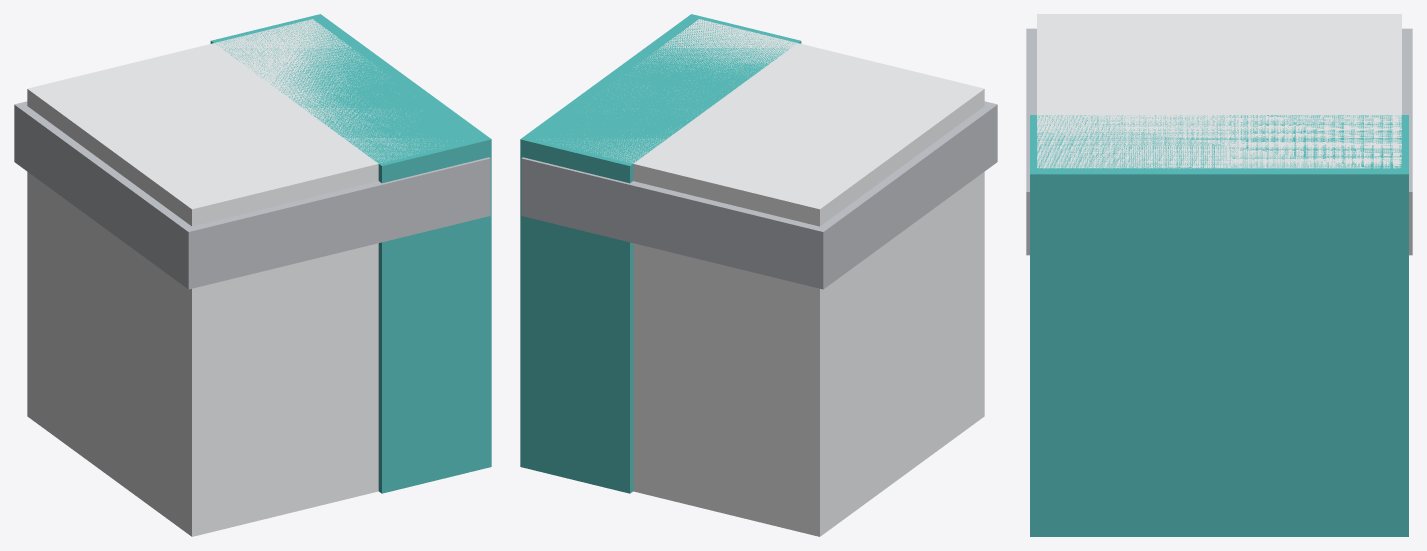
File: astronauta_retro_canela.glb
3 renders of one model, left to right at view 1: azimuth 30°, elevation 25°; view 2: azimuth 150°, elevation 25°; view 3: azimuth 270°, elevation 25°, orthographic. The views are drawn at different scales.
Visible parts, largest first — view 1: astronauta_retro_canela; view 2: astronauta_retro_canela; view 3: astronauta_retro_canela.
Boxes of the visible parts, <box> form: astronauta_retro_canela: <box>14,14,491,536</box>; astronauta_retro_canela: <box>520,14,997,536</box>; astronauta_retro_canela: <box>1026,14,1412,536</box>.
Bounding box in the file's own units: 0.2775 × 0.285 × 0.275.
